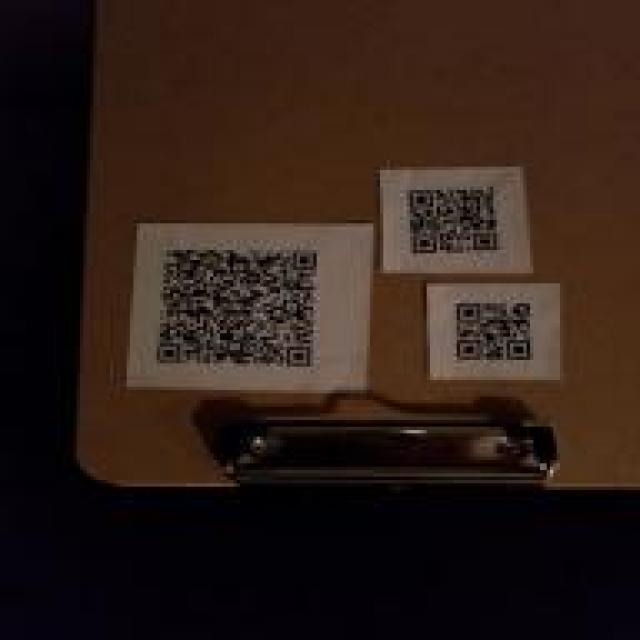QR_CODE: (140, 238, 333, 380), (393, 175, 515, 263), (440, 293, 545, 370)
